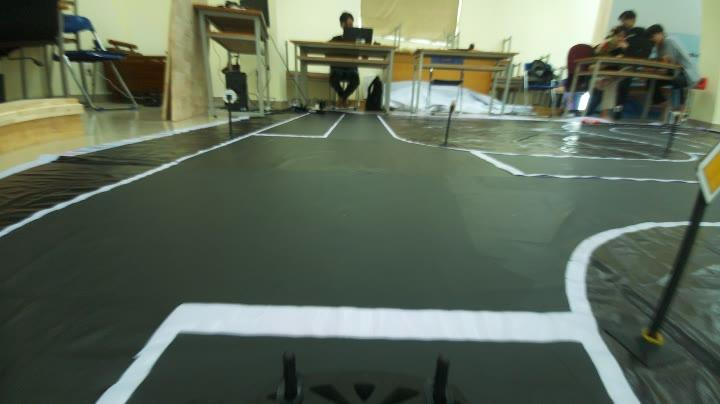priority: (686, 137, 720, 203)
